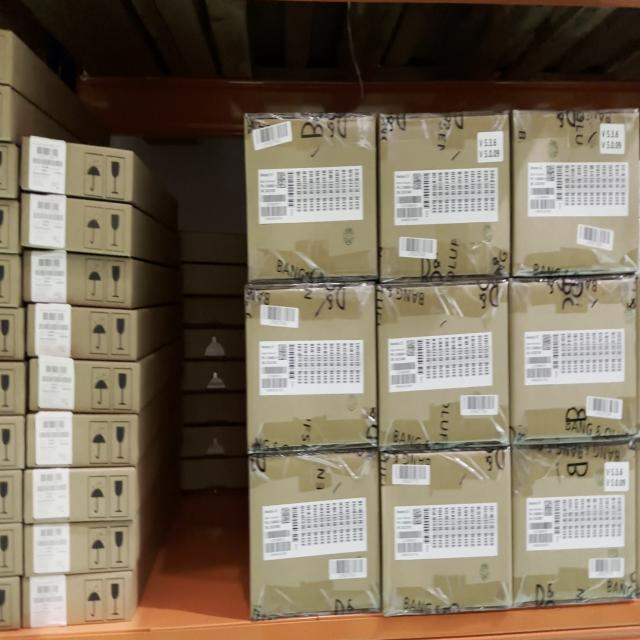box: (244, 111, 376, 279), (249, 449, 379, 615), (512, 110, 640, 277), (380, 114, 510, 277), (381, 450, 513, 610), (246, 286, 377, 447), (509, 278, 640, 437), (512, 444, 640, 603), (378, 279, 506, 437), (22, 135, 132, 200), (26, 304, 135, 366), (27, 466, 135, 528), (20, 191, 129, 252), (23, 523, 135, 579), (26, 409, 138, 465), (23, 249, 129, 308), (27, 358, 134, 412), (24, 576, 130, 625)
